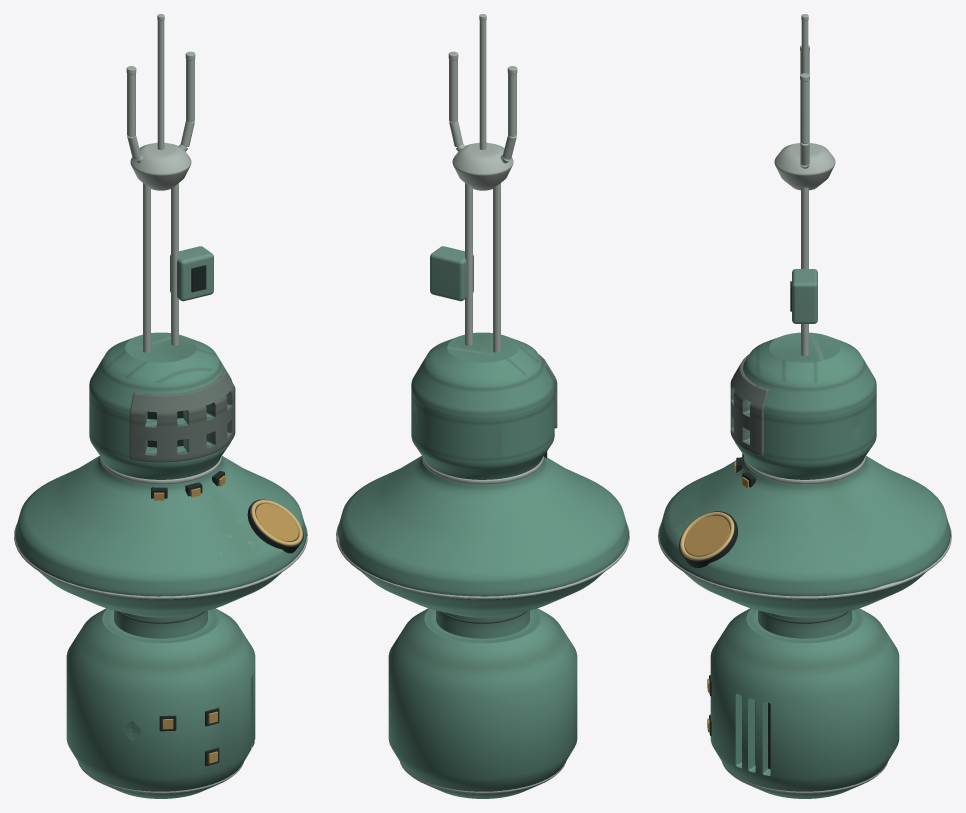
The picture shows the model from 3 angles, left to right: view 1: azimuth 30°, elevation 25°; view 2: azimuth 150°, elevation 25°; view 3: azimuth 270°, elevation 25°; orthographic projection.
Visible parts, largest first — view 1: RI08 flared middle housing, RI08 lower intake drum, RI08 rounded upper head, RI08 pale perforated equipment casing, RI08 silver crown fork bowl, RI08 solid connecting neck, RI08 support-mounted side equipment casing, RI08 twin upper support, RI08 twin upper support.001, RI08 middle perimeter seam, RI08 large circular brass pressure face, RI08 silver central conductor (+5 smaller); view 2: RI08 flared middle housing, RI08 lower intake drum, RI08 rounded upper head, RI08 silver crown fork bowl, RI08 support-mounted side equipment casing, RI08 solid connecting neck, RI08 twin upper support, RI08 twin upper support.001, RI08 middle perimeter seam, RI08 silver central conductor, RI08 head lower machined joint, RI08 silver outer conductor.002 (+1 smaller); view 3: RI08 flared middle housing, RI08 lower intake drum, RI08 rounded upper head, RI08 pale perforated equipment casing, RI08 silver crown fork bowl, RI08 solid connecting neck, RI08 support-mounted side equipment casing, RI08 large circular brass pressure face, RI08 middle perimeter seam, RI08 twin upper support.001, RI08 large circular rubbed retaining ring, RI08 silver outer conductor.005 (+2 smaller).
Part boxes in pixels (x1,y1,x2,y2): RI08 flared middle housing: (15,456,306,617); RI08 lower intake drum: (66,608,255,798); RI08 rounded upper head: (89,332,232,479); RI08 pale perforated equipment casing: (129,370,235,462); RI08 silver crown fork bowl: (130,142,191,190); RI08 solid connecting neck: (114,610,207,638); RI08 support-mounted side equipment casing: (170,246,213,301); RI08 twin upper support: (143,183,150,352); RI08 twin upper support.001: (171,183,178,345); RI08 middle perimeter seam: (14,524,307,599); RI08 large circular brass pressure face: (255,503,298,541); RI08 silver central conductor: (157,20,164,149); RI08 flared middle housing: (337,456,628,617); RI08 lower intake drum: (388,608,577,798); RI08 rounded upper head: (411,332,554,479); RI08 silver crown fork bowl: (452,142,513,190); RI08 support-mounted side equipment casing: (430,246,473,301); RI08 solid connecting neck: (436,610,529,638); RI08 twin upper support: (493,183,500,352); RI08 twin upper support.001: (465,183,472,345); RI08 middle perimeter seam: (336,524,629,599); RI08 silver central conductor: (479,20,486,149); RI08 head lower machined joint: (422,456,543,484); RI08 silver outer conductor.002: (508,73,516,136); RI08 flared middle housing: (659,456,950,617); RI08 lower intake drum: (710,608,899,798); RI08 rounded upper head: (734,332,876,479); RI08 pale perforated equipment casing: (730,354,769,456); RI08 silver crown fork bowl: (774,143,835,190); RI08 solid connecting neck: (758,610,851,638); RI08 support-mounted side equipment casing: (792,269,817,323); RI08 large circular brass pressure face: (684,516,729,556); RI08 middle perimeter seam: (658,523,951,599); RI08 twin upper support.001: (801,187,808,355); RI08 large circular rubbed retaining ring: (680,512,734,560); RI08 silver outer conductor.005: (800,80,809,143).
Size of the model in its own units: 1.81 by 5.15 by 1.81.
9 materials, 3 textured.
